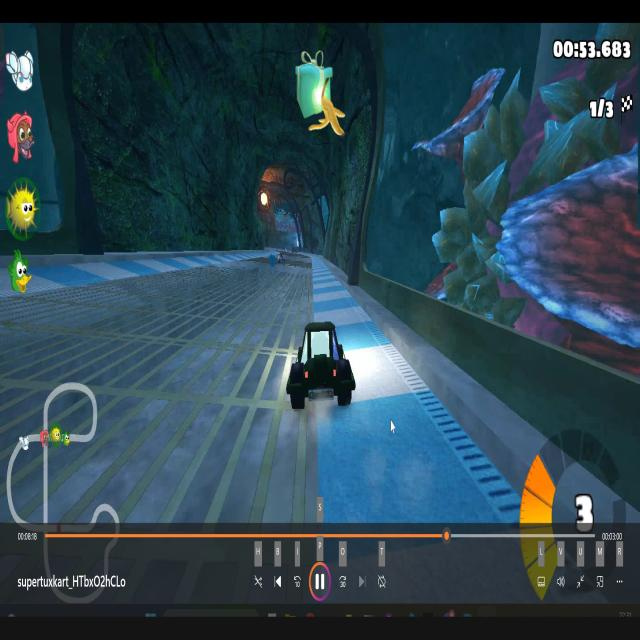enemy_kart: (278, 250, 286, 264)
off_track: (87, 260, 211, 269), (315, 257, 329, 323)
player_kart: (288, 322, 355, 429)
track: (182, 272, 287, 480)
